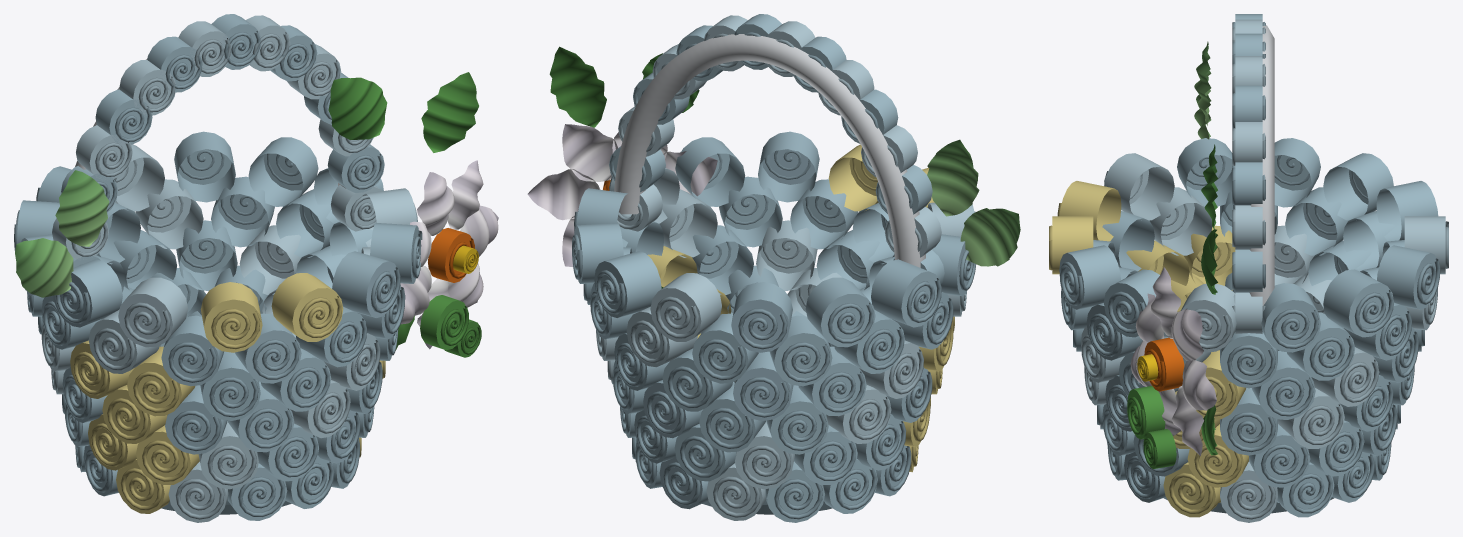
File: keranjang.glb
The picture shows the model from 3 angles, left to right: view 1: azimuth 30°, elevation 25°; view 2: azimuth 150°, elevation 25°; view 3: azimuth 270°, elevation 25°; orthographic projection.
Visible parts, largest first — view 1: keranjang_quilling; view 2: keranjang_quilling; view 3: keranjang_quilling.
Part boxes in pixels (box(x1,y1,x2,y2)): keranjang_quilling: box(14, 14, 498, 522); keranjang_quilling: box(527, 14, 1020, 522); keranjang_quilling: box(1049, 14, 1448, 522).
Size of the model in its own units: 0.1628 by 0.1409 by 0.117.
